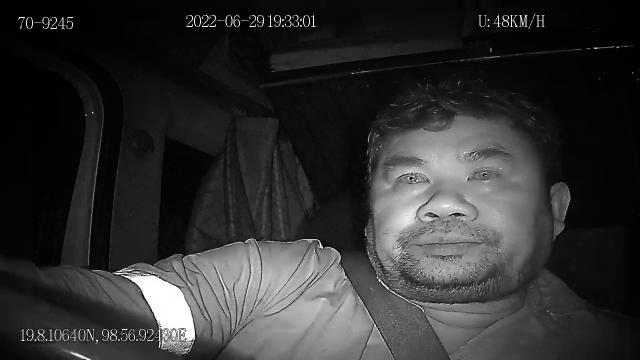SafeDriving: (460, 154, 510, 190), (386, 160, 436, 192)
Seatbelt: (334, 250, 454, 360)
